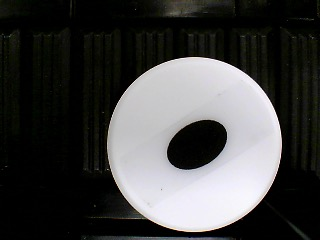BOHOEL: (105, 56, 282, 232)
